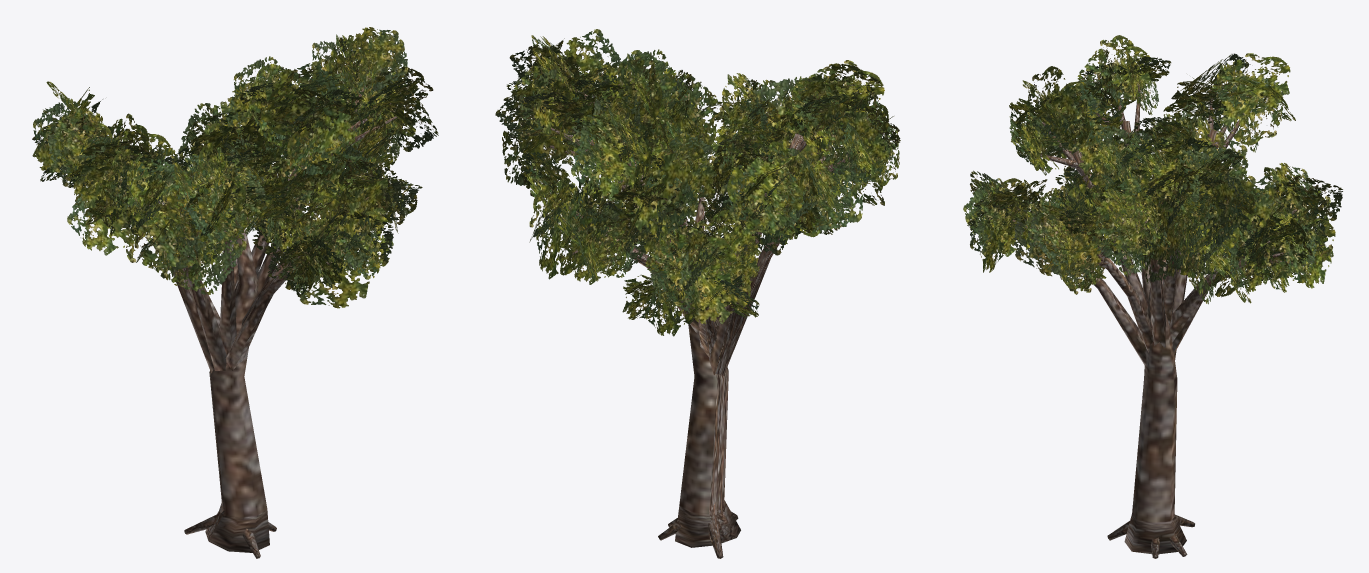
Rendered from Peepal_Arayal.glb.
3 views of the same model, side by side, from view 1: azimuth 30°, elevation 25°; view 2: azimuth 150°, elevation 25°; view 3: azimuth 270°, elevation 25° (orthographic). The views are drawn at different scales.
Parts seen in each view (by area): view 1: Peepal_Arayal; view 2: Peepal_Arayal; view 3: Peepal_Arayal.
Part boxes in pixels (x1,y1,x2,y2): Peepal_Arayal: [32, 27, 438, 558]; Peepal_Arayal: [495, 29, 900, 558]; Peepal_Arayal: [963, 35, 1342, 558].
Size of the model in its own units: 6.86 by 8.2 by 6.62.
2 materials, 2 textured.
